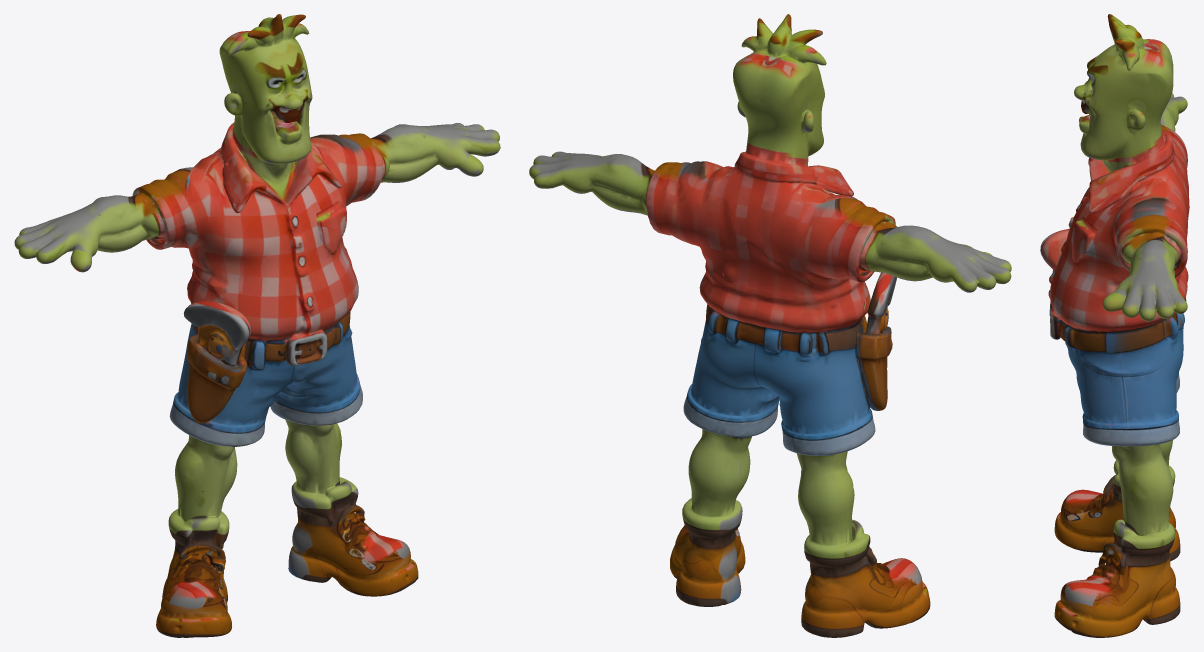
The model's file is tripo_convert_8228a3d0-792e-447a-be33-18304b520790.fbx.
3 views of the same model, side by side, from view 1: azimuth 30°, elevation 25°; view 2: azimuth 150°, elevation 25°; view 3: azimuth 270°, elevation 25° (orthographic). The views are drawn at different scales.
Visible parts, largest first — view 1: tripo_node_8228a3d0; view 2: tripo_node_8228a3d0; view 3: tripo_node_8228a3d0.
Boxes of the visible parts, box(x1,y1,x2,y2) form: tripo_node_8228a3d0: box(14, 14, 500, 637); tripo_node_8228a3d0: box(529, 14, 1011, 637); tripo_node_8228a3d0: box(1040, 14, 1189, 637).
Bounding box in the file's own units: 85.5 × 23.91 × 99.99.
1 material, 1 textured.
